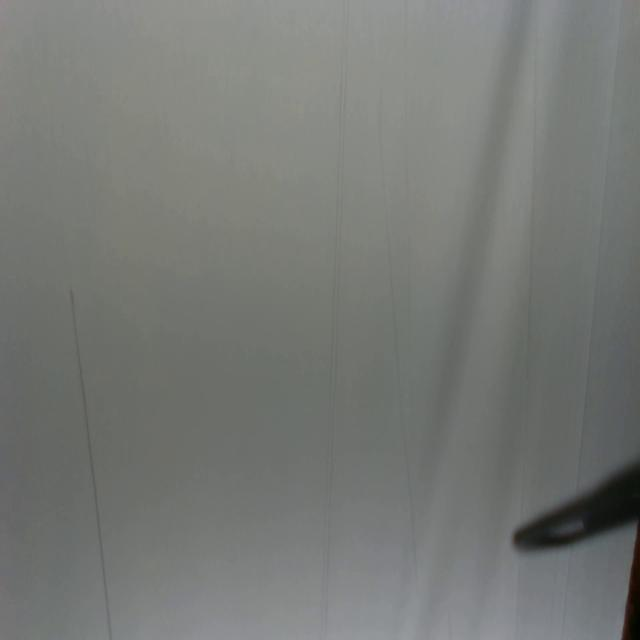crease: (578, 0, 626, 460), (375, 89, 420, 577), (320, 0, 351, 639), (67, 280, 115, 640), (526, 3, 540, 363)
